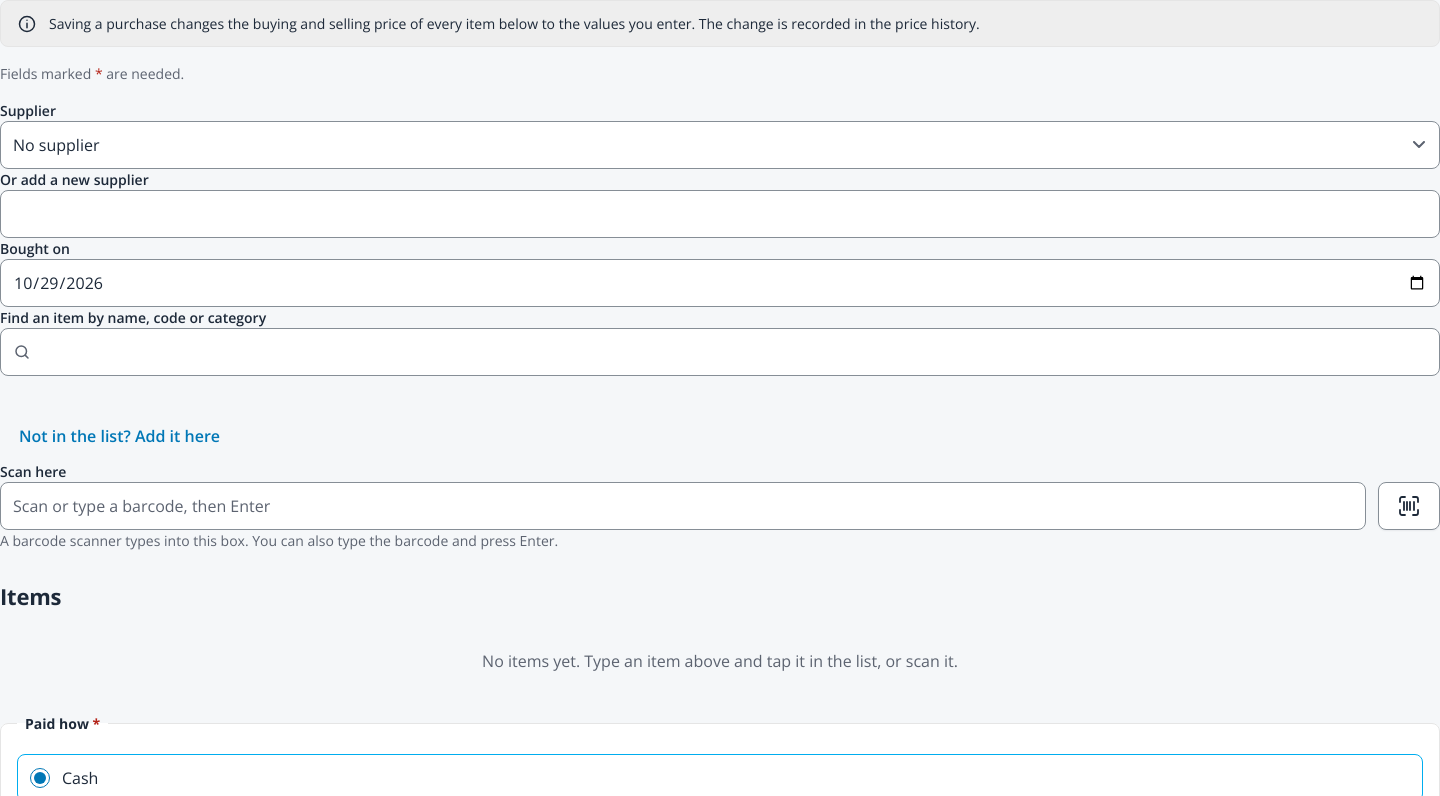
Test case: Buy stock: add an item that is not in the list › adds a category inline: the field names it and the code line gives its first code (#578)
This screenshot has width=1440, height=796.
Click the button "Not in the list? Add it here": point(120, 437) [0,413,239,461]
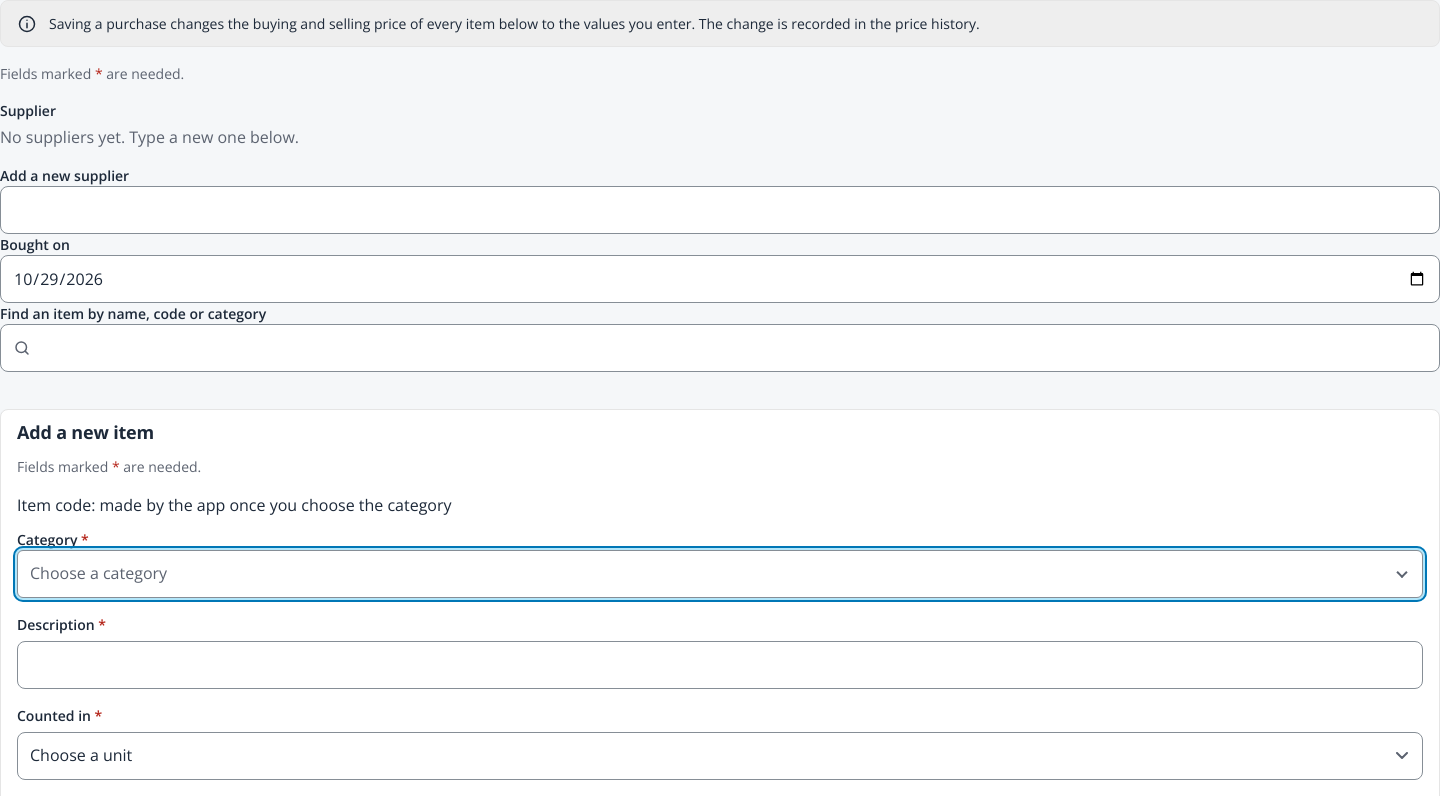
Click the dropdown labelled "Choose a category": point(99, 573) [17,550,1423,598]
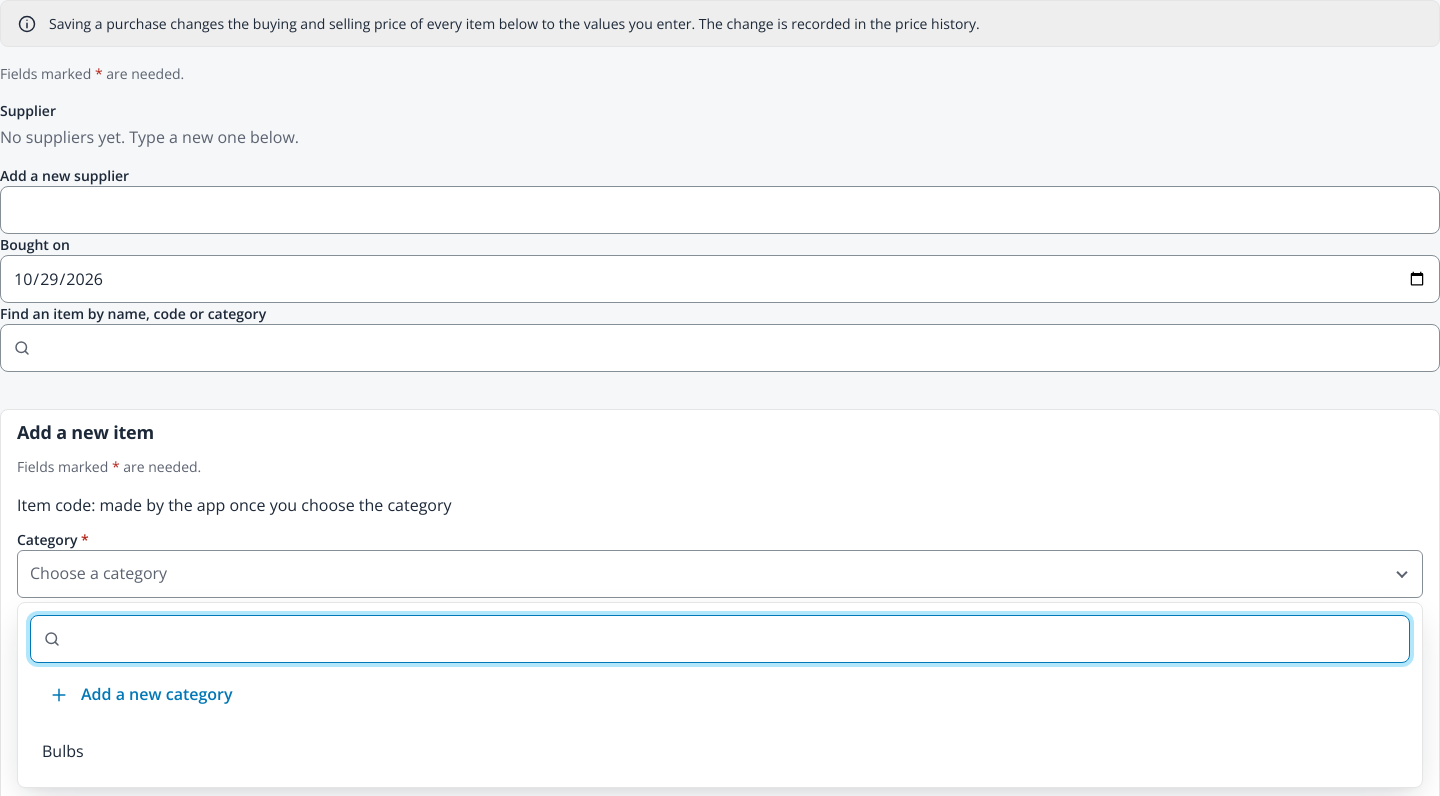
Click the button "Add a new category": point(157, 694) [30,671,1410,719]
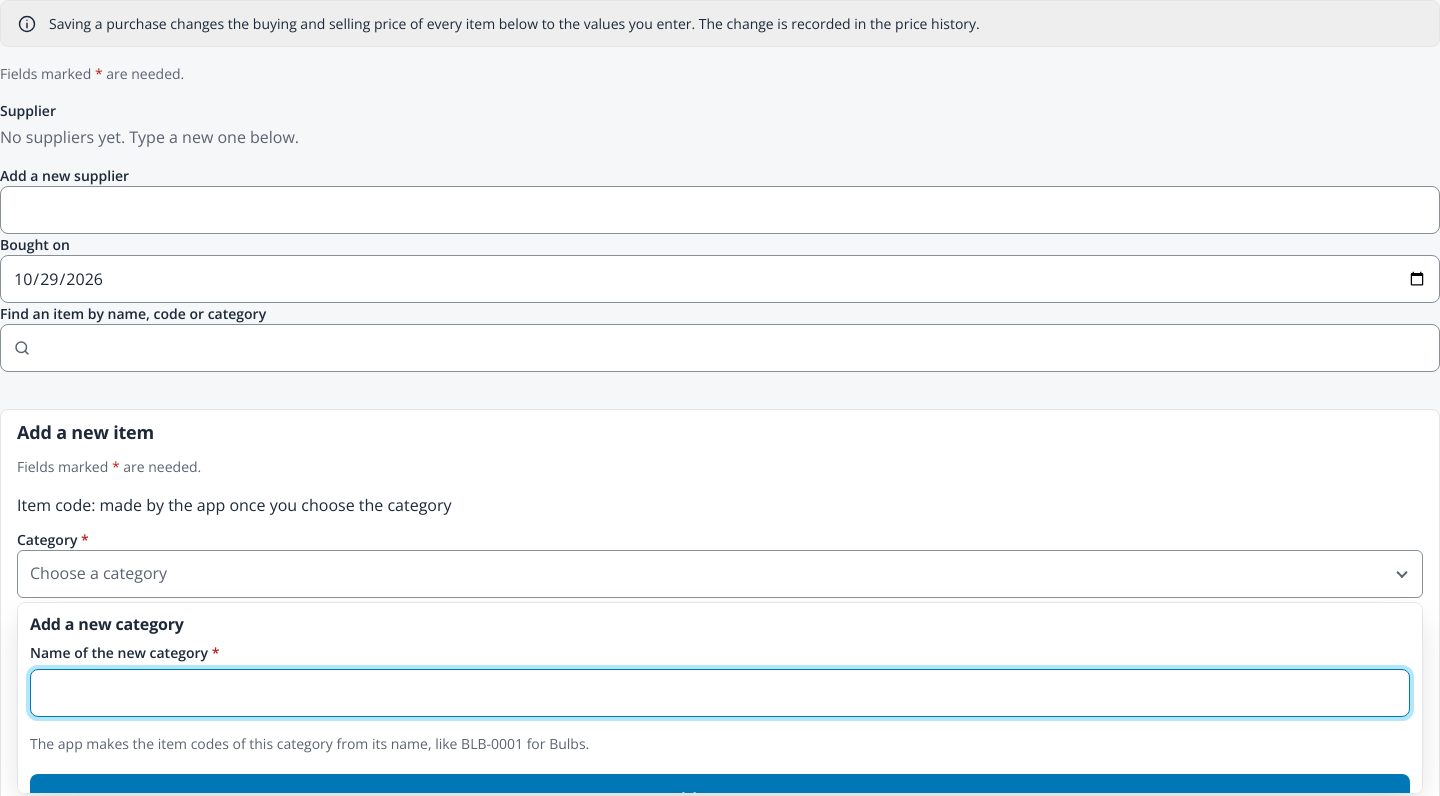
In the field labelled "Name of the new category *": point(720, 693) [30,669,1410,717], type "Rice"
(page scrolled)
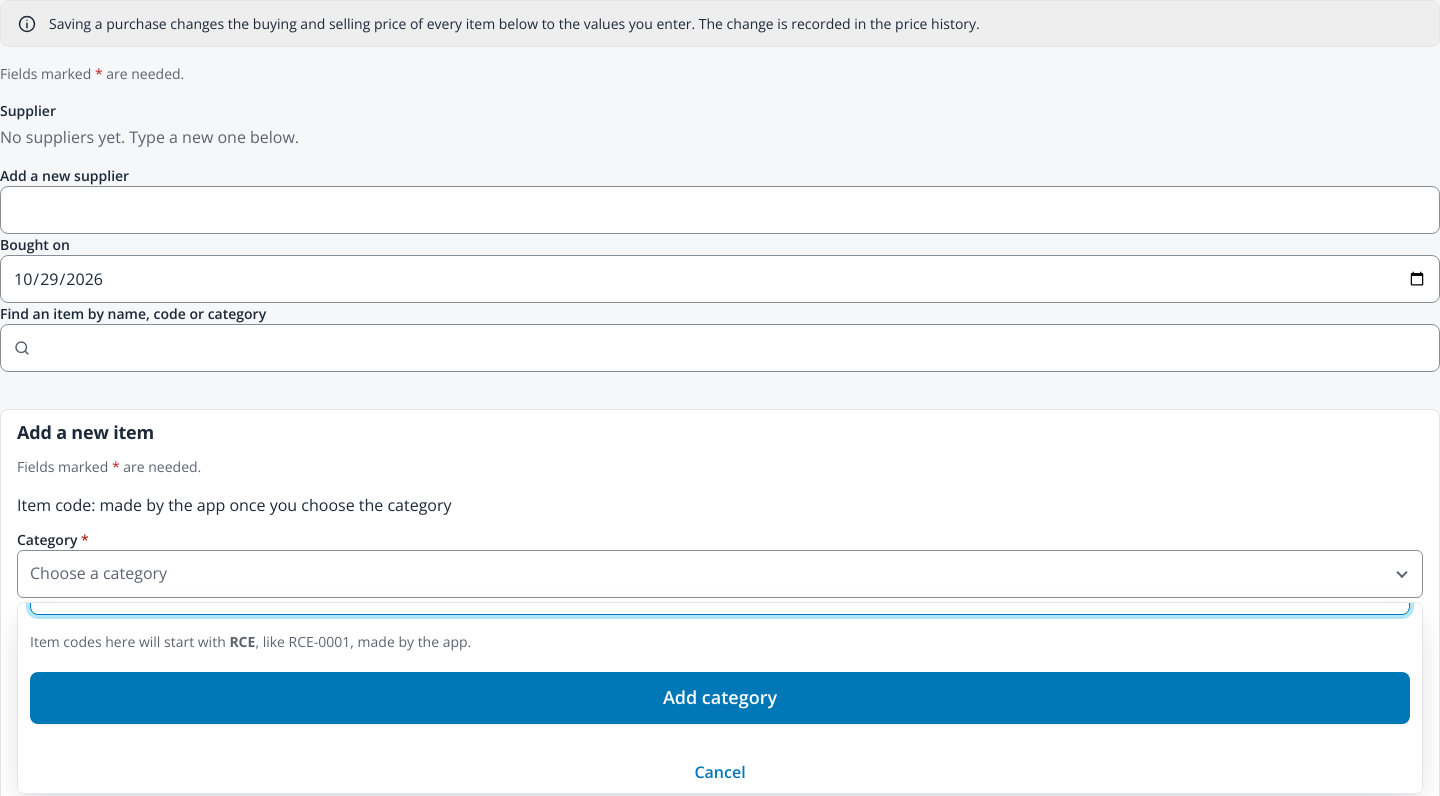
Expected: the text "RCE" is shown, [229,632,255,651]
Click the button "Add category": point(720, 698) [30,672,1410,724]
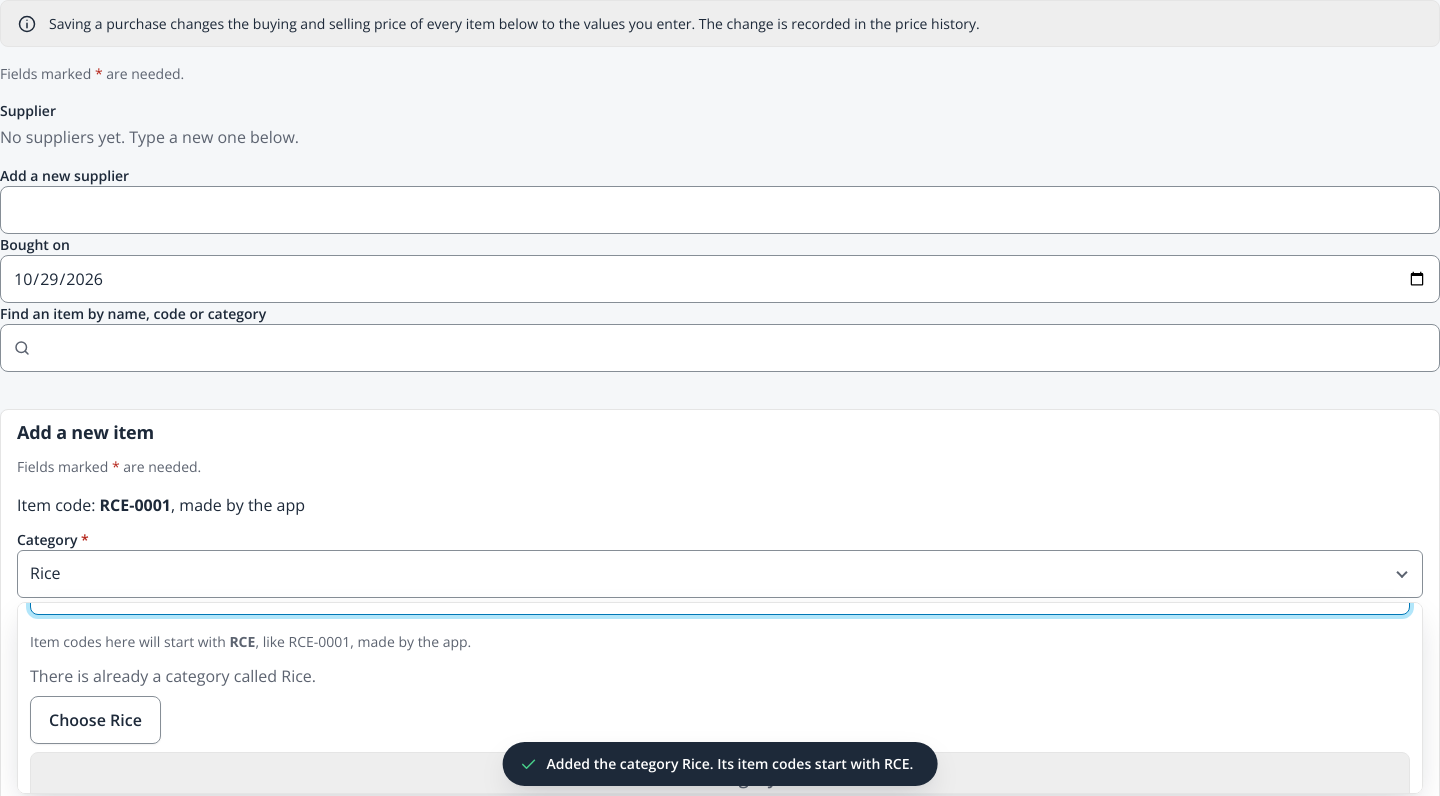
Expected: the dropdown named "Category" reads "Rice", [17,550,1423,598]
Expected: the element with test id "restock-new-code" reads "Item code: RCE-0001, made by the app", [17,494,305,516]
